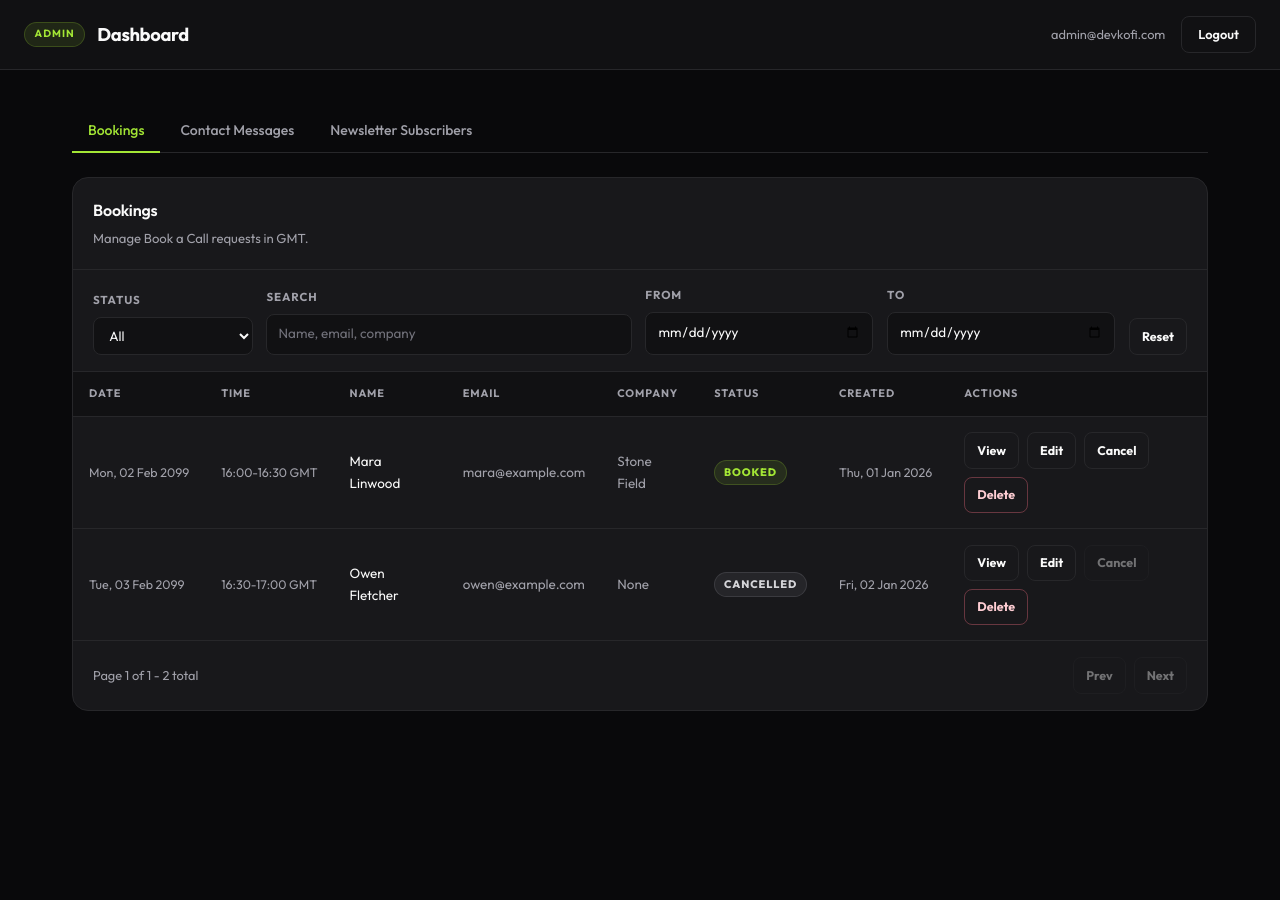
Scenario: AdminDashboard Bookings tab › opens booking details from the view action
Step 1. Click the button "View" in the row of "Mon, 02 Feb 2099" → click(992, 451), box [964, 432, 1019, 469]
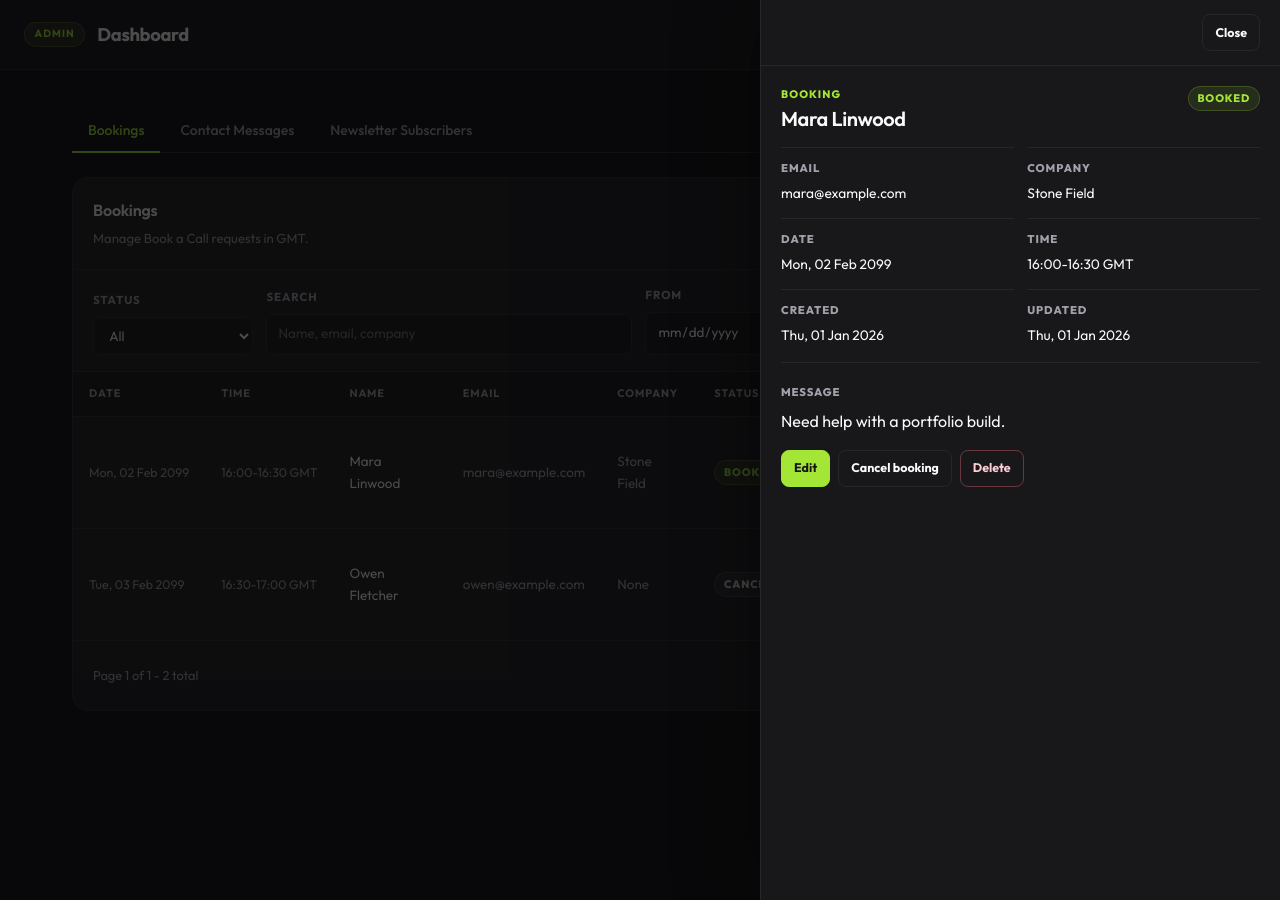
Result: the dialog is shown at [760, 0, 1279, 899]
Result: the text "Need help with a portfolio build." is shown at [781, 412, 1005, 432]
